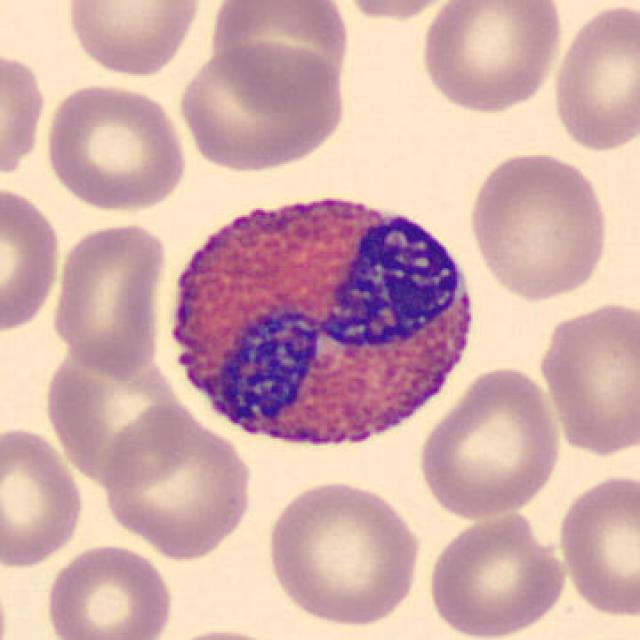Eosinophil: (150, 171, 494, 467)
RBC: (98, 400, 258, 562), (261, 476, 425, 628), (414, 361, 566, 522), (174, 39, 350, 174), (464, 146, 613, 304), (42, 342, 194, 486), (41, 80, 190, 214), (48, 219, 171, 379), (423, 508, 571, 640), (416, 0, 567, 116), (204, 0, 356, 111), (535, 296, 638, 458), (548, 2, 638, 155), (41, 539, 176, 640), (553, 470, 640, 620), (0, 423, 87, 571), (60, 0, 206, 79), (0, 180, 64, 337), (0, 44, 48, 189), (334, 0, 468, 23), (153, 624, 295, 640)
